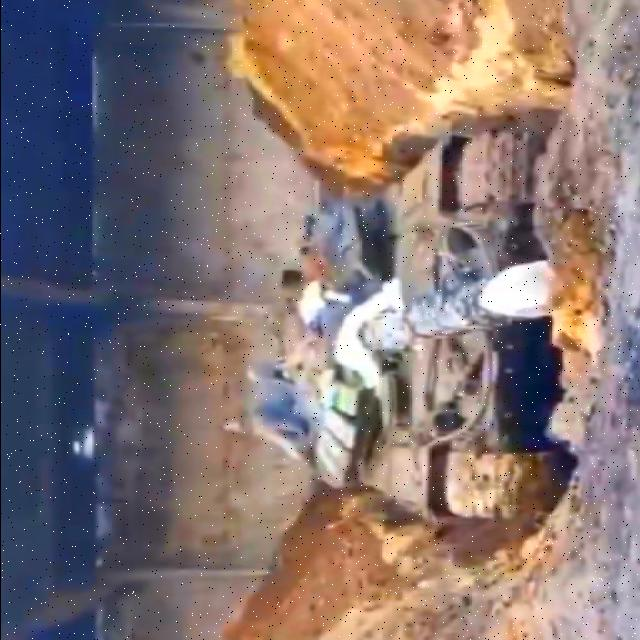TANK: (189, 115, 620, 536)
